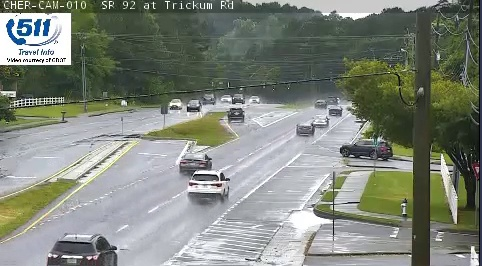car: (46, 234, 117, 266), (187, 170, 229, 198), (179, 153, 212, 175), (296, 123, 314, 137), (311, 115, 328, 127), (227, 108, 244, 120)
